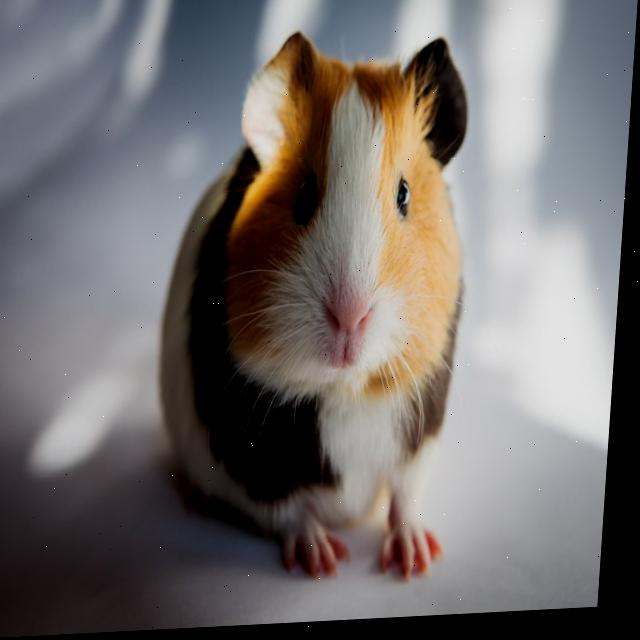guinea pig: (153, 29, 485, 581)
